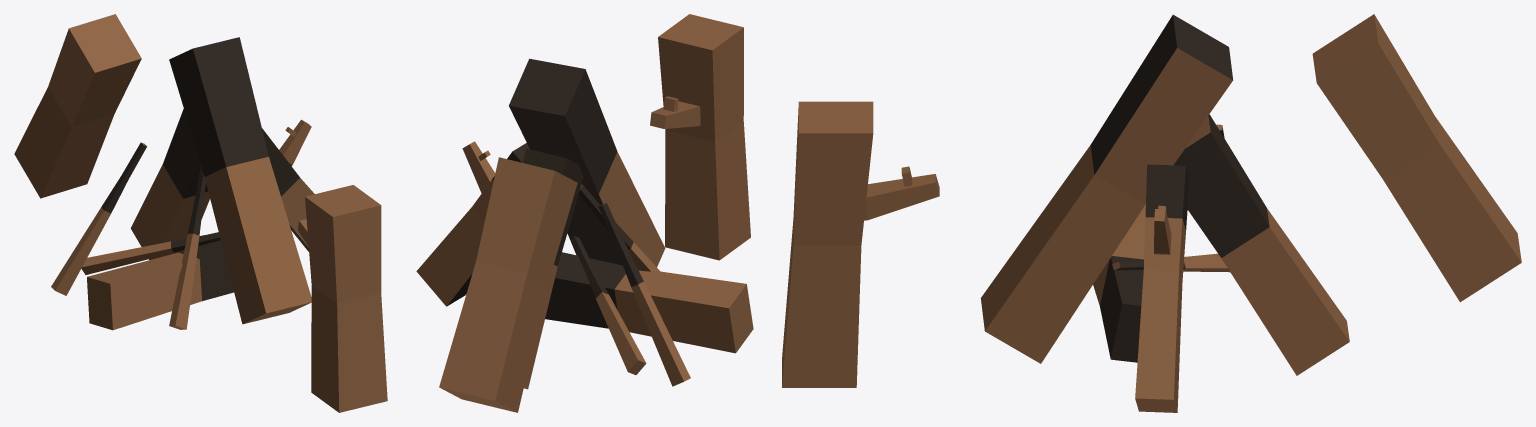
Rendered from campfire.fbx.
The picture shows the model from 3 angles, left to right: view 1: azimuth 30°, elevation 25°; view 2: azimuth 150°, elevation 25°; view 3: azimuth 270°, elevation 25°; orthographic projection. The views are drawn at different scales.
Parts seen in each view (by area): view 1: campfire, Log With Branch.001, Log.002, Log.005; view 2: campfire, Log With Branch.001, Log.002, Log.005; view 3: campfire, Log.002, Log With Branch.001.
Part boxes in pixels (x1=…): campfire: x1=81, y1=37, x2=314, y2=330; Log With Branch.001: x1=298, y1=185, x2=387, y2=412; Log.002: x1=14, y1=14, x2=141, y2=198; Log.005: x1=51, y1=142, x2=146, y2=295; campfire: x1=416, y1=58, x2=753, y2=389; Log With Branch.001: x1=650, y1=14, x2=750, y2=260; Log.002: x1=439, y1=157, x2=577, y2=412; Log.005: x1=598, y1=203, x2=690, y2=386; campfire: x1=980, y1=14, x2=1349, y2=412; Log.002: x1=1312, y1=14, x2=1521, y2=302; Log With Branch.001: x1=782, y1=101, x2=939, y2=387.
Bounding box in the file's own units: 554 × 506 × 992.
